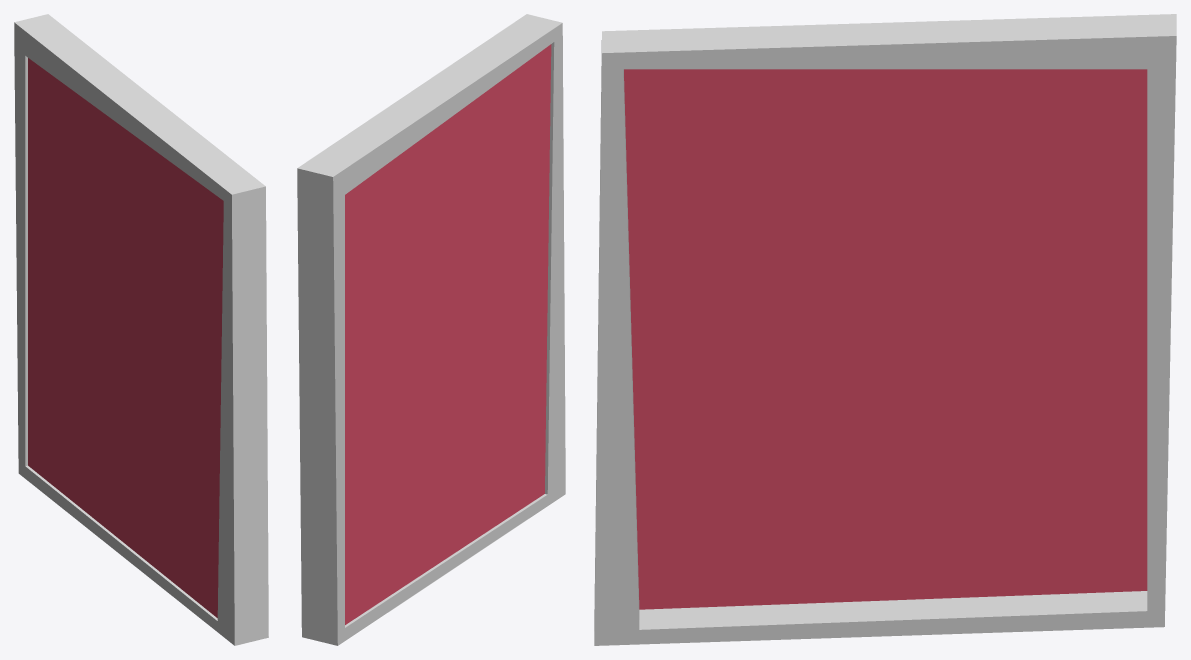
File: MS_Frame1.fbx
3 renders of one model, left to right at view 1: azimuth 30°, elevation 25°; view 2: azimuth 150°, elevation 25°; view 3: azimuth 270°, elevation 25°, orthographic. The views are drawn at different scales.
Visible parts, largest first — view 1: Plane.001; view 2: Plane.001; view 3: Plane.001.
Part boxes in pixels (left/top/right/bottom): Plane.001: left=14, top=14, right=268, bottom=645; Plane.001: left=297, top=14, right=565, bottom=645; Plane.001: left=594, top=14, right=1176, bottom=645.
Bounding box in the file's own units: 13.44 × 174 × 151.
